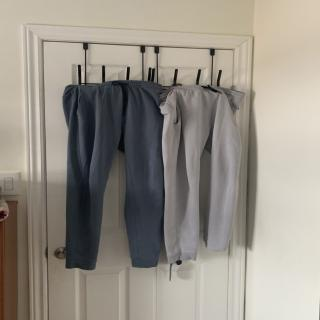Blue Sweatpants: (62, 79, 164, 270)
White Sweatpants: (165, 82, 242, 266)
